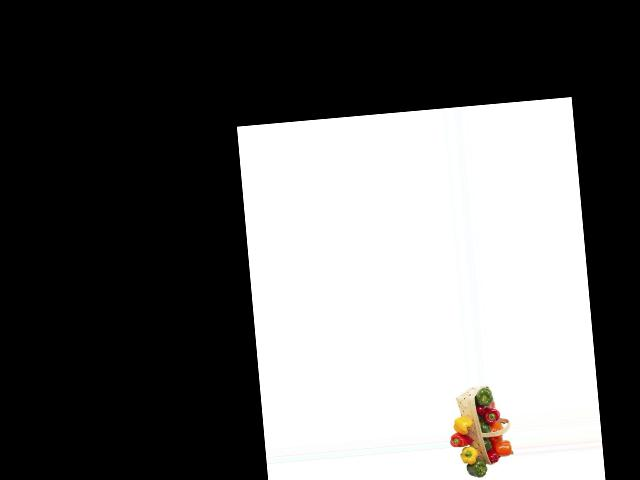bell_pepper: (475, 387, 493, 408)
